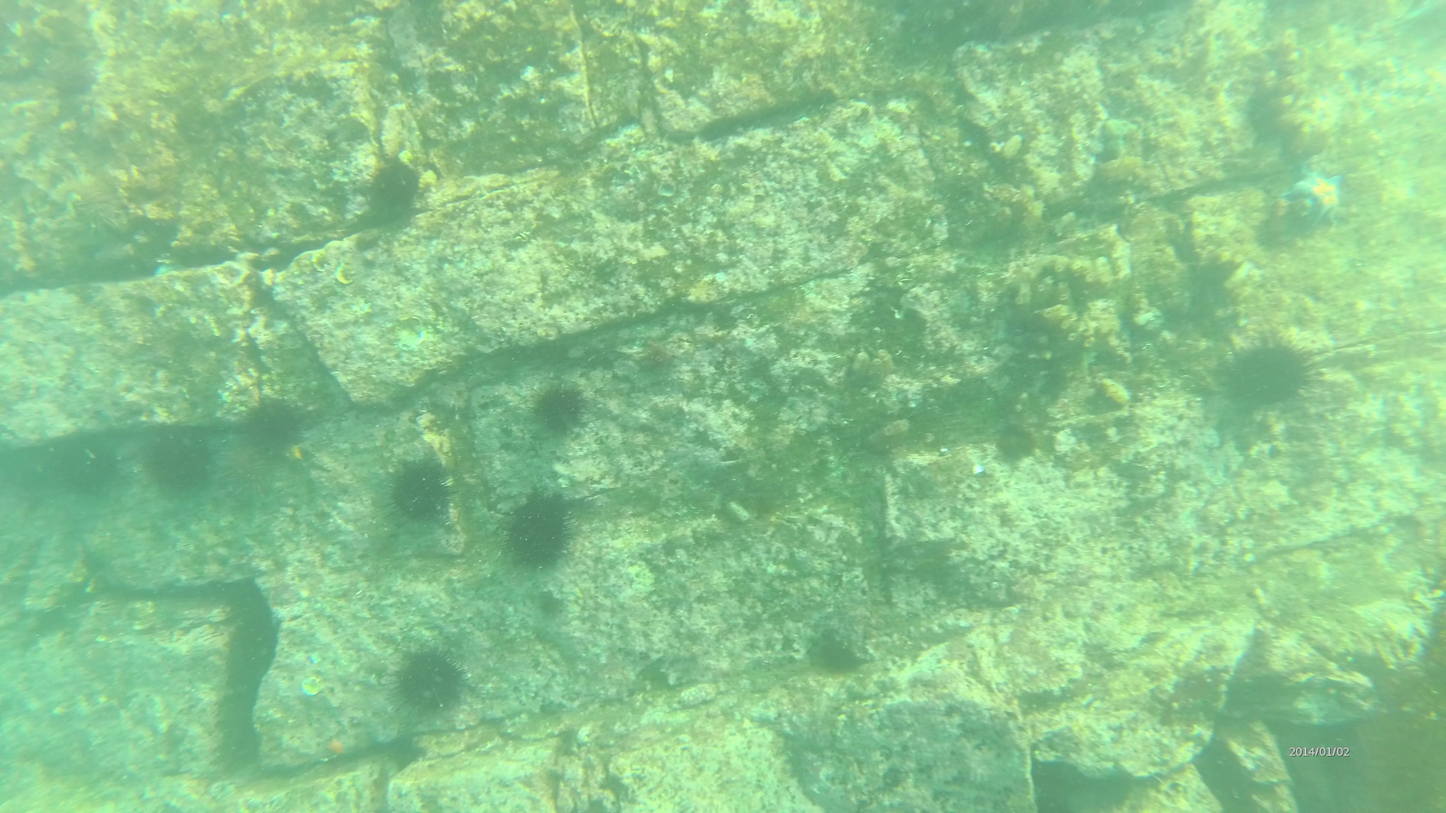holothurian: (1283, 159, 1349, 225)
starfish: (1223, 335, 1314, 416), (497, 484, 580, 567), (144, 431, 220, 496), (387, 460, 458, 527), (392, 650, 462, 714), (215, 434, 277, 502), (366, 152, 423, 218), (53, 440, 116, 498), (237, 398, 301, 454), (528, 387, 593, 438)
